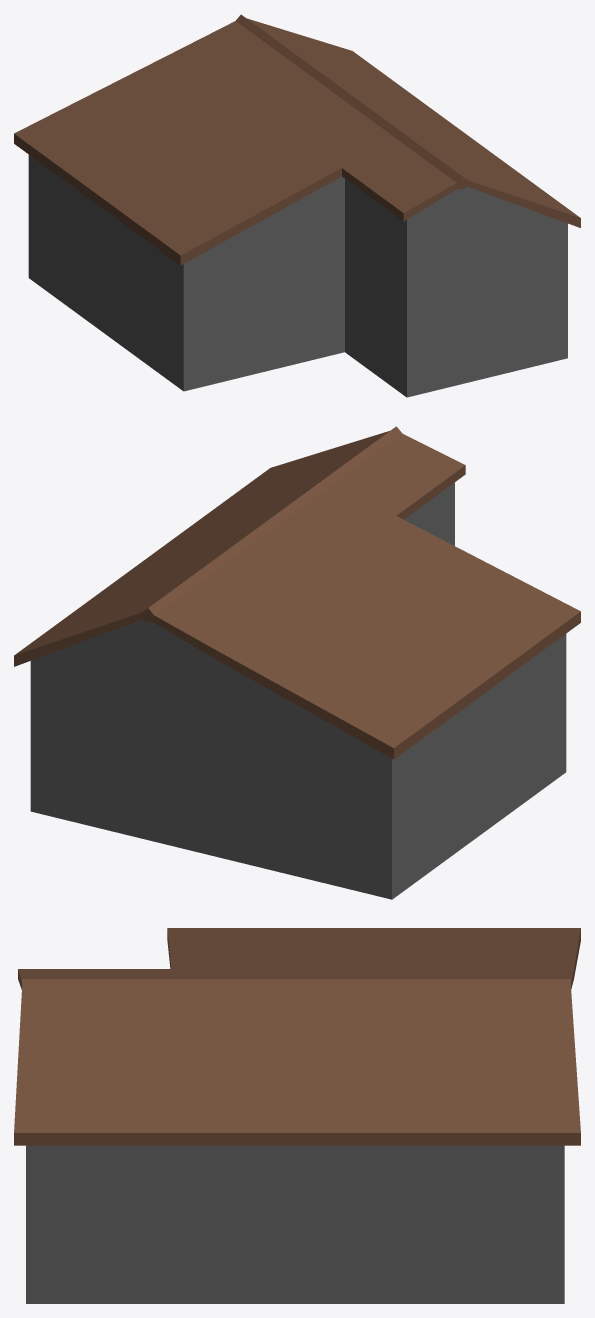
Rendered from Room10.fbx.
3 renders of one model, top to bottom at view 1: azimuth 30°, elevation 25°; view 2: azimuth 150°, elevation 25°; view 3: azimuth 270°, elevation 25°, orthographic. The views are drawn at different scales.
Parts seen in each view (by area): view 1: Room10; view 2: Room10; view 3: Room10.
Part boxes in pixels (bbox=[...]): Room10: bbox=[14, 14, 580, 397]; Room10: bbox=[14, 426, 580, 899]; Room10: bbox=[14, 928, 580, 1303].
Size of the model in its own units: 630 by 373 by 737.
